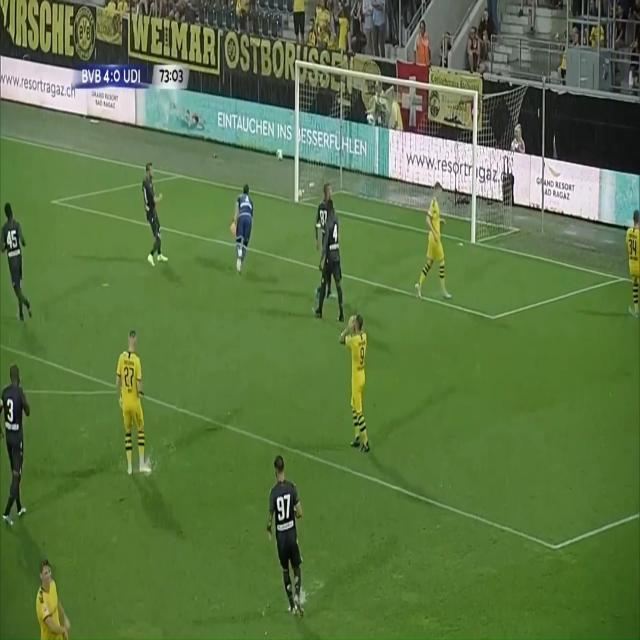ball: (274, 147, 285, 164)
goalkeeper: (227, 173, 257, 282)
player: (265, 453, 309, 619), (335, 306, 377, 464), (2, 354, 40, 528), (415, 163, 454, 313), (113, 332, 152, 478), (0, 199, 38, 333), (136, 152, 173, 281), (316, 197, 348, 321), (34, 552, 74, 640), (315, 186, 337, 260), (626, 208, 640, 321)
